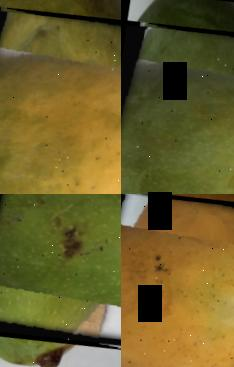PartiallyRipe: (0, 0, 121, 194)
Ripe: (121, 194, 234, 367)
Unripe: (121, 13, 234, 194), (0, 194, 121, 358)
